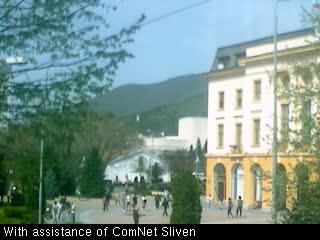person: (235, 196, 243, 217), (69, 203, 76, 226), (227, 197, 234, 218), (162, 198, 169, 217), (133, 207, 140, 224), (53, 202, 58, 223), (57, 202, 62, 223), (103, 195, 109, 212), (126, 194, 132, 211), (155, 194, 161, 210), (132, 193, 137, 210), (121, 194, 126, 211), (142, 195, 147, 210), (207, 195, 212, 209), (115, 192, 120, 204)
